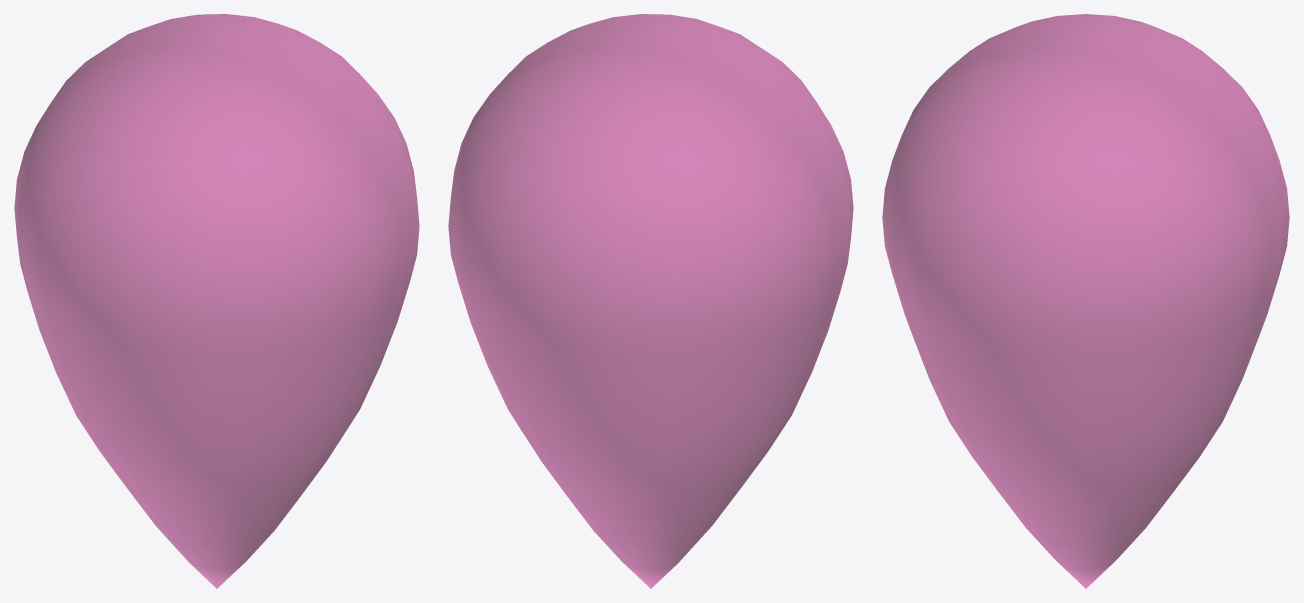
File: Balloon Model.fbx
The picture shows the model from 3 angles, left to right: view 1: azimuth 30°, elevation 25°; view 2: azimuth 150°, elevation 25°; view 3: azimuth 270°, elevation 25°; orthographic projection.
Parts seen in each view (by area): view 1: pSphere1; view 2: pSphere1; view 3: pSphere1.
Part boxes in pixels (x1,y1,x2,y2): pSphere1: (14,14,419,588); pSphere1: (448,14,853,588); pSphere1: (882,14,1289,588).
Bounding box in the file's own units: 1.74 × 2.62 × 1.74.
